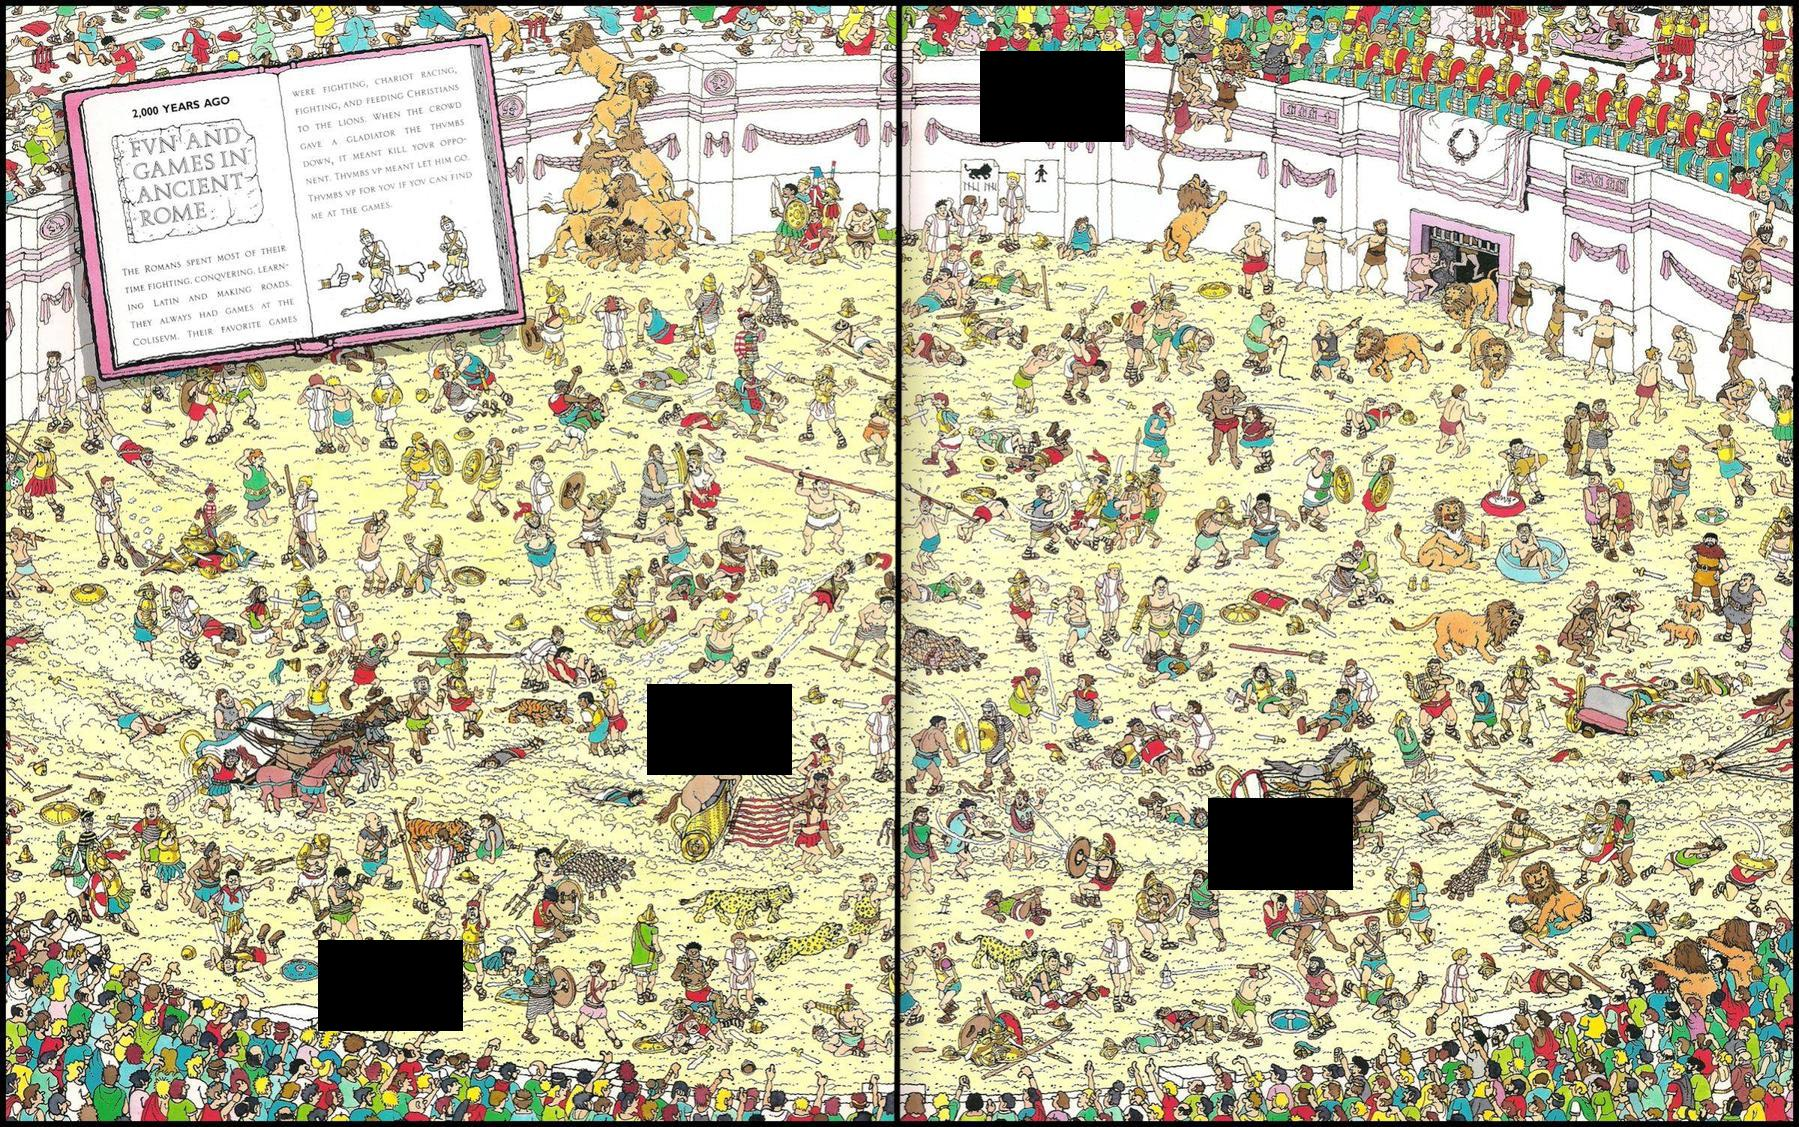waldo: (733, 306, 767, 362)
